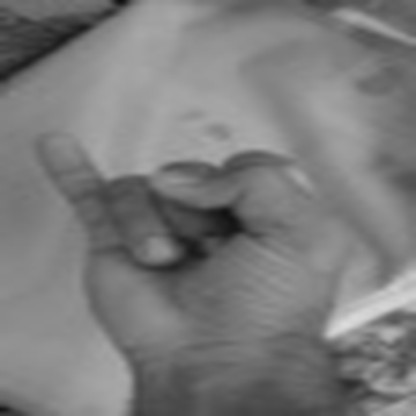i: (28, 121, 346, 332)
